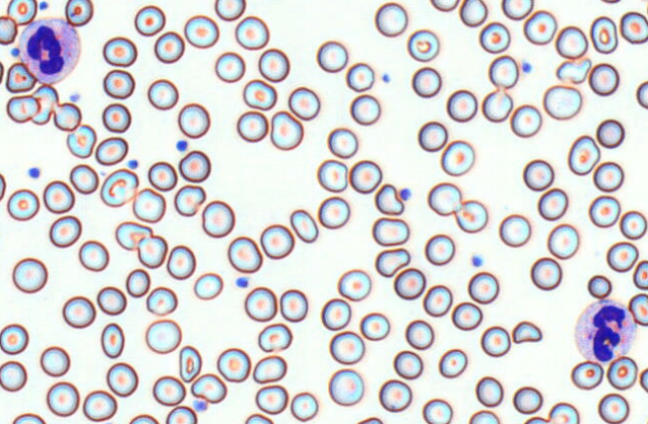GRAN: (573, 300, 636, 364), (21, 20, 81, 85)
PLT: (235, 275, 251, 291), (400, 186, 415, 201), (193, 399, 208, 413), (379, 71, 393, 84), (471, 254, 484, 268), (176, 139, 188, 154), (519, 61, 531, 74), (38, 1, 49, 13), (9, 46, 20, 58), (29, 165, 40, 177), (127, 158, 138, 169)
RBC: (100, 168, 138, 207), (543, 84, 582, 120), (269, 110, 303, 150), (328, 368, 363, 406), (227, 235, 262, 273), (567, 135, 600, 175), (12, 257, 47, 293), (440, 139, 474, 176), (216, 347, 251, 382), (234, 15, 269, 50), (132, 187, 166, 223), (523, 9, 557, 45), (145, 319, 181, 353), (183, 14, 219, 48), (260, 223, 294, 259), (201, 200, 234, 237), (329, 330, 364, 364), (46, 381, 79, 417), (177, 102, 210, 138), (454, 199, 488, 233), (427, 182, 461, 216), (244, 286, 277, 321), (547, 223, 579, 259), (378, 379, 412, 412), (337, 268, 371, 301), (374, 2, 407, 36), (498, 213, 531, 247), (555, 25, 588, 59), (349, 159, 382, 193), (106, 362, 138, 397), (82, 389, 117, 421), (242, 78, 277, 110), (372, 216, 409, 246), (6, 188, 39, 221), (62, 295, 95, 328), (317, 196, 350, 229), (530, 256, 562, 290), (316, 158, 348, 192), (288, 86, 320, 120), (606, 355, 637, 390), (102, 36, 137, 67), (115, 221, 152, 250), (590, 15, 618, 53), (467, 271, 499, 304), (42, 180, 74, 213), (510, 104, 542, 137), (522, 158, 554, 191), (178, 149, 210, 182), (481, 88, 512, 122), (258, 48, 289, 82), (588, 62, 619, 96), (257, 322, 292, 352), (166, 244, 196, 279), (393, 267, 425, 299), (316, 40, 348, 72), (173, 184, 205, 216), (49, 215, 81, 247), (236, 110, 268, 142), (407, 29, 439, 61), (588, 195, 620, 227), (152, 375, 185, 406), (537, 187, 568, 220), (446, 89, 477, 122), (137, 234, 167, 268), (66, 124, 96, 158), (597, 392, 629, 423), (424, 233, 455, 265), (134, 4, 165, 36), (78, 239, 109, 271), (479, 21, 510, 53), (606, 241, 638, 272), (147, 78, 178, 110), (255, 384, 288, 414), (321, 297, 351, 330), (488, 55, 518, 88), (279, 288, 308, 322), (289, 208, 318, 242), (5, 62, 36, 93), (327, 127, 358, 158), (214, 51, 245, 82), (593, 161, 624, 192), (154, 31, 184, 63), (350, 93, 380, 125), (102, 69, 134, 99), (570, 360, 603, 389), (95, 136, 128, 165), (69, 163, 99, 194), (480, 325, 510, 356), (40, 345, 70, 376), (147, 160, 177, 191), (411, 66, 441, 97), (417, 120, 447, 151), (6, 94, 38, 123), (423, 284, 452, 316), (619, 11, 647, 44), (96, 285, 126, 315), (101, 102, 131, 132), (451, 301, 482, 330), (146, 286, 177, 315), (512, 385, 542, 414), (438, 348, 467, 378), (393, 350, 423, 379), (0, 323, 28, 354), (475, 376, 503, 407), (100, 322, 124, 358), (53, 101, 81, 131), (193, 272, 223, 300), (405, 319, 433, 349), (290, 391, 318, 421), (359, 312, 389, 340), (346, 62, 374, 92), (596, 118, 624, 148), (0, 360, 27, 391), (619, 210, 647, 239), (6, 0, 37, 25), (64, 0, 93, 26), (422, 398, 452, 423), (459, 0, 487, 26), (125, 268, 150, 297), (548, 402, 579, 423), (214, 0, 245, 21), (501, 0, 533, 20), (628, 293, 647, 326), (587, 274, 611, 299), (165, 405, 197, 423), (0, 15, 17, 44), (632, 259, 647, 290), (468, 409, 499, 423), (12, 412, 45, 423), (636, 80, 647, 109), (430, 0, 459, 11), (128, 413, 159, 423), (244, 413, 273, 423), (639, 367, 647, 392), (522, 416, 549, 423), (356, 416, 383, 423), (0, 172, 6, 200), (0, 60, 4, 85), (599, 0, 621, 4)
Schistocyte: (191, 372, 228, 403), (374, 248, 412, 278), (373, 184, 406, 216), (34, 87, 59, 126), (556, 59, 592, 83), (180, 346, 202, 383), (254, 357, 285, 383), (513, 321, 545, 345)
